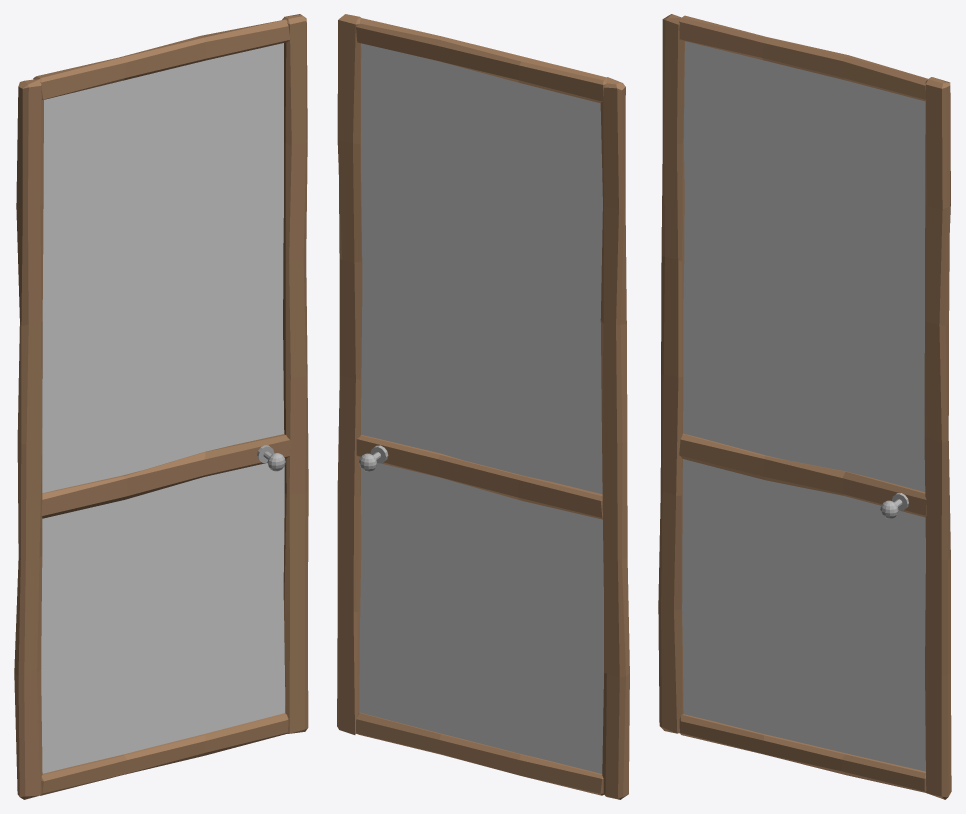
Rendered from PKX_Veranda_Door_Leaf.fbx.
3 views of the same model, side by side, from view 1: azimuth 30°, elevation 25°; view 2: azimuth 150°, elevation 25°; view 3: azimuth 330°, elevation 25° (orthographic).
Visible parts, largest first — view 1: PKX_Veranda_Door_Leaf; view 2: PKX_Veranda_Door_Leaf; view 3: PKX_Veranda_Door_Leaf.
Boxes of the visible parts, x1,y1,x2,y2 form: PKX_Veranda_Door_Leaf: (14, 14, 308, 799); PKX_Veranda_Door_Leaf: (337, 14, 629, 799); PKX_Veranda_Door_Leaf: (658, 14, 951, 799).
Bounding box in the file's own units: 81.5 × 193 × 19.02.
